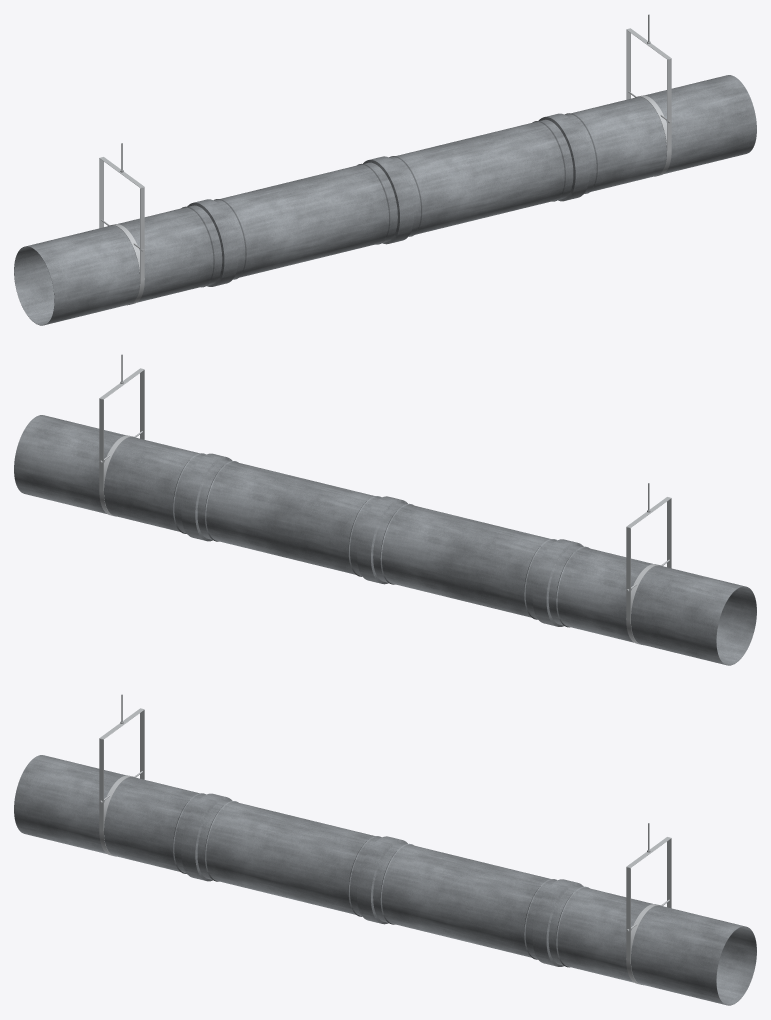
Rendered from duct_round.glb.
3 renders of one model, top to bottom at view 1: azimuth 30°, elevation 25°; view 2: azimuth 150°, elevation 25°; view 3: azimuth 330°, elevation 25°, orthographic.
Visible parts, largest first — view 1: duct_body, hanger_straps; view 2: duct_body, hanger_straps; view 3: duct_body, hanger_straps.
Boxes of the visible parts, left/top/right/bottom form: duct_body: left=14, top=75, right=756, bottom=325; hanger_straps: left=99, top=14, right=671, bottom=305; duct_body: left=14, top=415, right=756, bottom=665; hanger_straps: left=99, top=354, right=671, bottom=645; duct_body: left=14, top=755, right=756, bottom=1005; hanger_straps: left=99, top=694, right=671, bottom=985.
Bounding box in the file's own units: 4 × 0.8733 × 0.4264.
2 materials, 1 textured.
